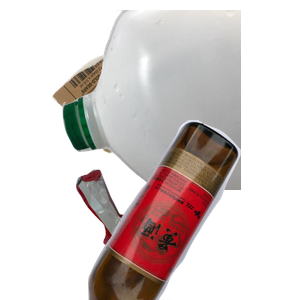cardboard: (50, 38, 233, 184)
glass: (85, 120, 300, 300)
plastic: (60, 10, 300, 190)
trash: (74, 167, 235, 300)
